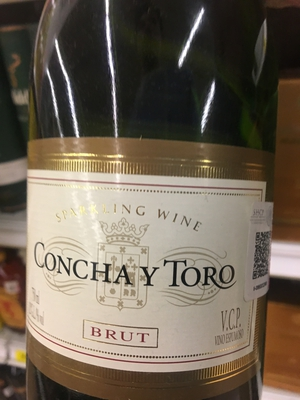brut: (22, 12, 283, 400)
